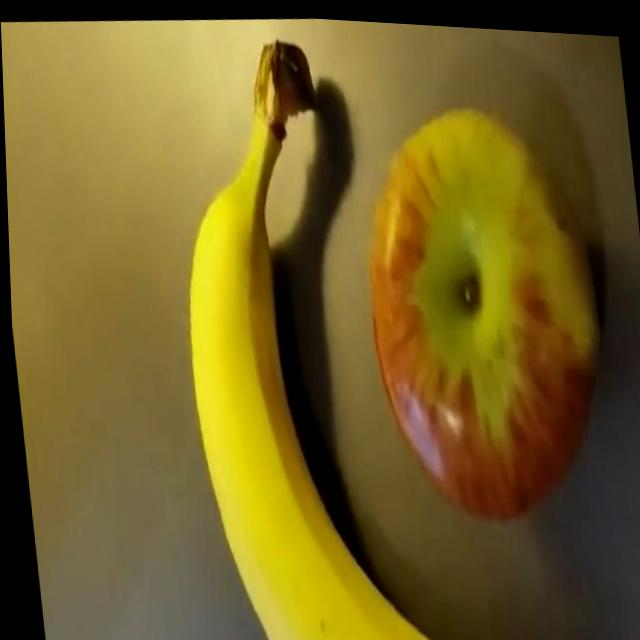Apple: (347, 88, 617, 532)
Banana: (143, 8, 467, 640)
